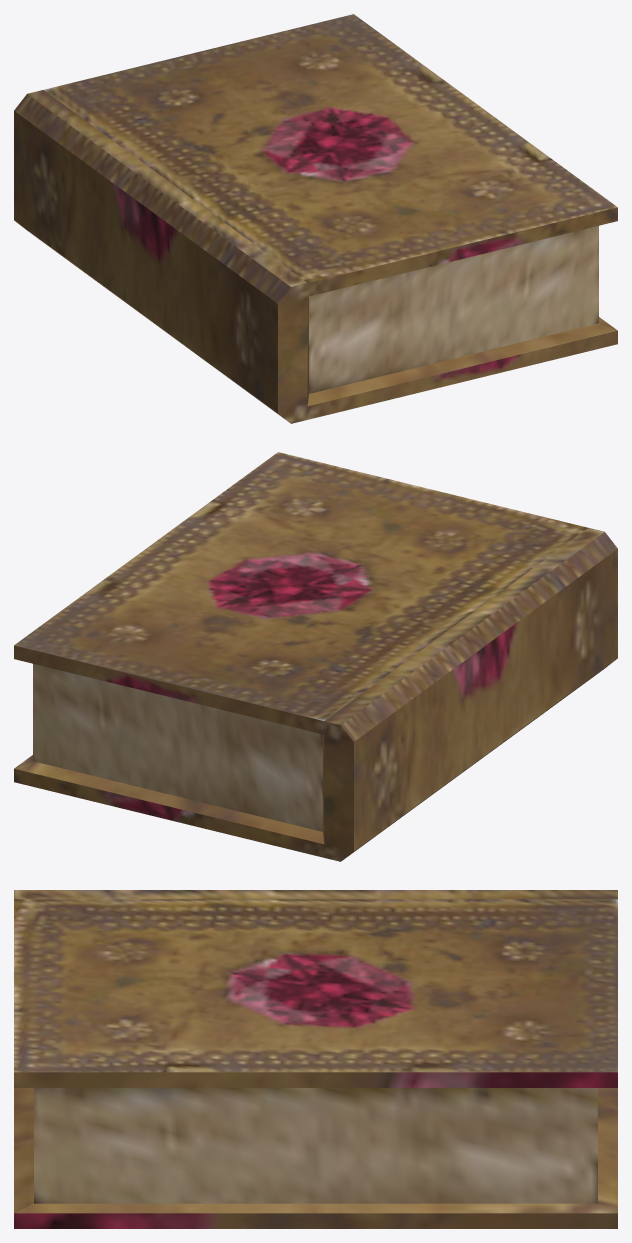
Rendered from Book.fbx.
The picture shows the model from 3 angles, top to bottom: view 1: azimuth 30°, elevation 25°; view 2: azimuth 150°, elevation 25°; view 3: azimuth 270°, elevation 25°; orthographic projection. The views are drawn at different scales.
Visible parts, largest first — view 1: Cube; view 2: Cube; view 3: Cube.
Boxes of the visible parts, bbox=[...] form: Cube: bbox=[14, 14, 617, 423]; Cube: bbox=[14, 452, 617, 861]; Cube: bbox=[14, 890, 617, 1228].
Bounding box in the file's own units: 520 × 200 × 700.
